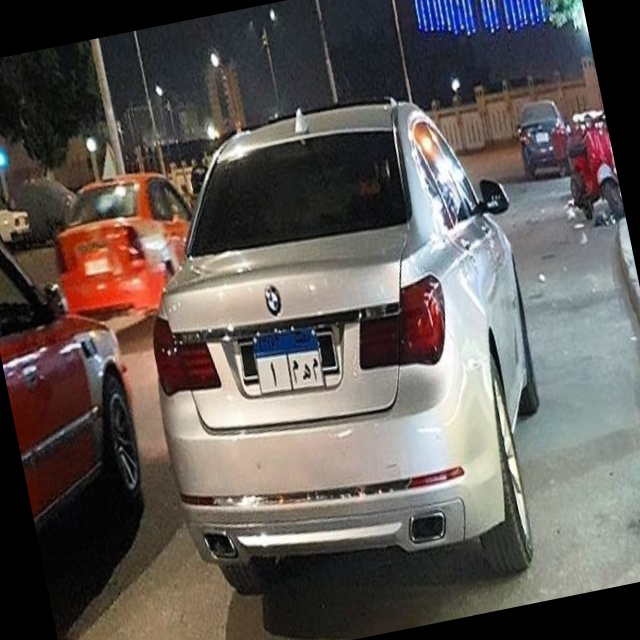License Plate: (248, 322, 328, 403)
